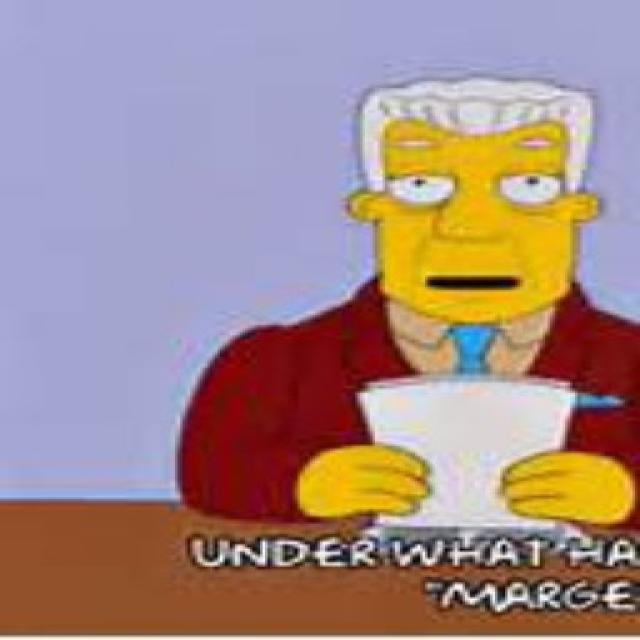Kent Brockman: (340, 71, 615, 327)
